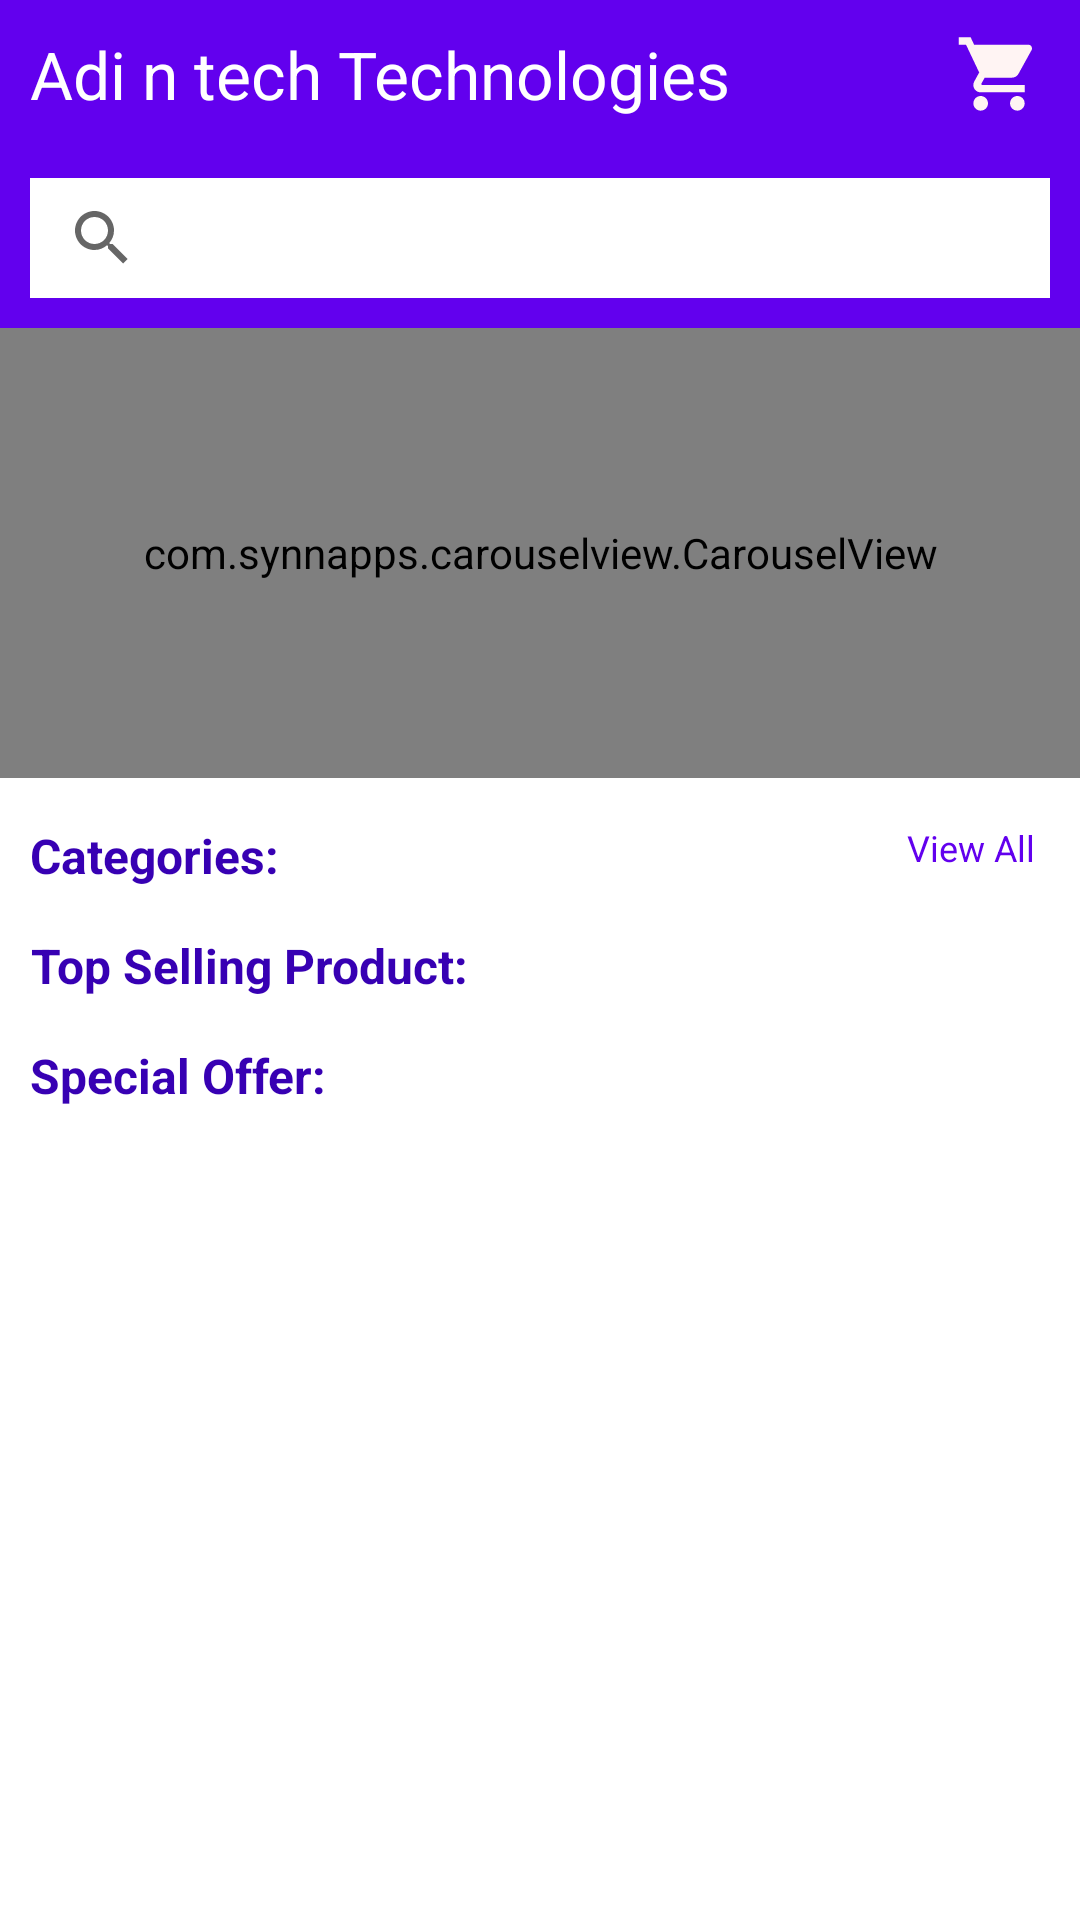

Locate icon controls on the screen. Image size 1080px×1920px, boxes as (x1, y1, x2, y2).
add to card: (958, 37, 1032, 111)
